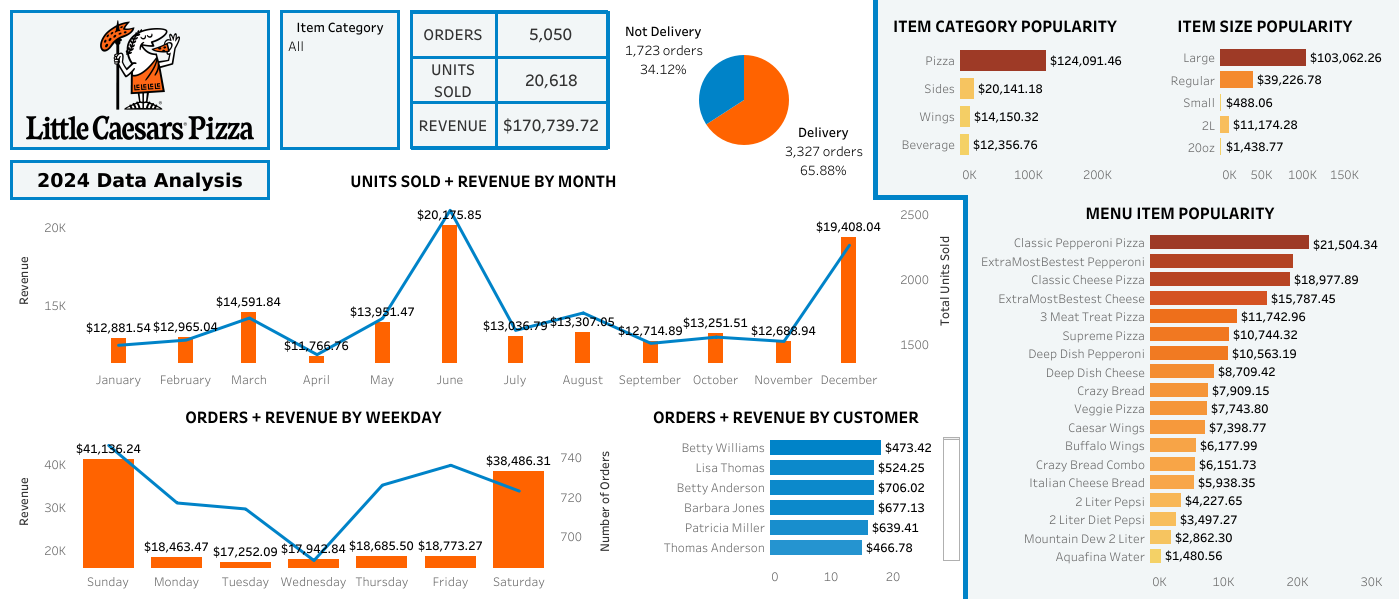

Layout of this report page (visuals, bound fields, positions):
{"tool":"tableau","page":{"name":"Dashboard","canvas":[1400,600],"ordinal":0},"visuals":[{"type":"blank","box":[873,0,5,195]},{"type":"blank","box":[877,0,523,196]},{"type":"worksheet","title":"Menu Category Popularity","mark":"Automatic","rows":["menu_item_category"],"cols":["Calculation_107171633850572801"],"box":[880,8,250,180]},{"type":"worksheet","title":"Menu Size Popularity","mark":"Automatic","rows":["menu_item_size"],"cols":["Calculation_107171633850572801"],"box":[1140,8,250,180]},{"type":"image","param":"Image/pizza_restaurant_visualizations_pic1.png","box":[10,10,260,140]},{"type":"filter","title":"Units + Rev by Month","param":"[federated.1dc37x61h34tho16y384x16rrjjx].[none:menu_item_category:nk]","box":[280,10,120,140]},{"type":"worksheet","title":"Summary","mark":"Automatic","box":[410,10,200,140]},{"type":"worksheet","title":"Delivery Pie Chart","mark":"Pie","box":[619,10,250,180]},{"type":"text","box":[10,160,260,40]},{"type":"worksheet","title":"Units + Rev by Month","mark":"Automatic","rows":["Calculation_107171633850572801","Calculation_107171633850933250"],"cols":["order_date"],"box":[7,163,953,230]},{"type":"blank","box":[967,190,433,410]},{"type":"blank","box":[873,195,95,5]},{"type":"worksheet","title":"Menu Item Popularity","mark":"Automatic","rows":["menu_item_name"],"cols":["Calculation_107171633850572801"],"box":[970,195,420,400]},{"type":"blank","box":[963,200,5,400]},{"type":"worksheet","title":"Orders + Rev by Weekday","mark":"Automatic","rows":["Calculation_107171633850572801","Calculation_107171633793351680"],"cols":["order_date"],"box":[7,399,613,191]},{"type":"worksheet","title":"Frequent Customers","mark":"Automatic","rows":["customer_name"],"cols":["Calculation_107171633793351680"],"box":[630,399.4,330,190.2]}]}

Visuals, with their boxes in screenshot pixels (x1, y1, x2, y2), scaled from the page's 1400x600 canvas onto the 1399x599 screenshot:
blank: [x1=872, y1=0, x2=877, y2=195]
blank: [x1=876, y1=0, x2=1398, y2=196]
"Menu Category Popularity" worksheet: [x1=879, y1=8, x2=1129, y2=188]
"Menu Size Popularity" worksheet: [x1=1139, y1=8, x2=1389, y2=188]
image: [x1=10, y1=10, x2=270, y2=150]
"Units + Rev by Month" filter: [x1=280, y1=10, x2=400, y2=150]
"Summary" worksheet: [x1=410, y1=10, x2=610, y2=150]
"Delivery Pie Chart" worksheet (Pie marks): [x1=619, y1=10, x2=868, y2=190]
text: [x1=10, y1=160, x2=270, y2=200]
"Units + Rev by Month" worksheet: [x1=7, y1=163, x2=959, y2=392]
blank: [x1=966, y1=190, x2=1398, y2=598]
blank: [x1=872, y1=195, x2=967, y2=200]
"Menu Item Popularity" worksheet: [x1=969, y1=195, x2=1389, y2=594]
blank: [x1=962, y1=200, x2=967, y2=598]
"Orders + Rev by Weekday" worksheet: [x1=7, y1=398, x2=620, y2=589]
"Frequent Customers" worksheet: [x1=630, y1=399, x2=959, y2=589]
